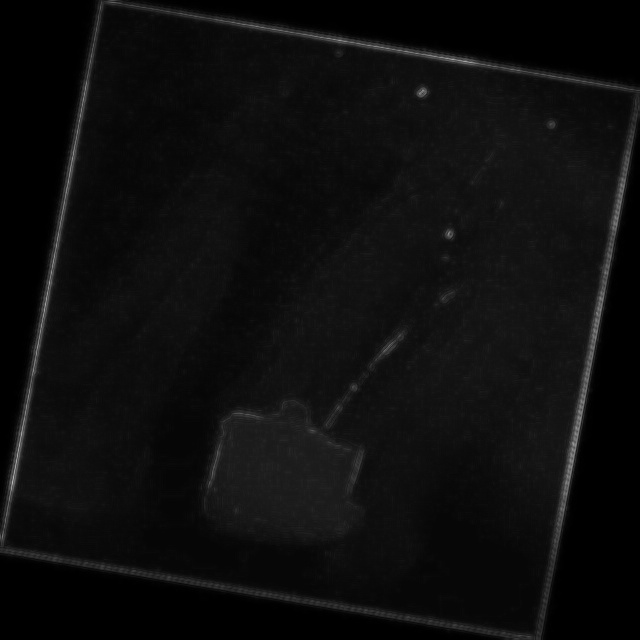Class 2- incomplete endodontic treatment: (172, 114, 566, 611)
